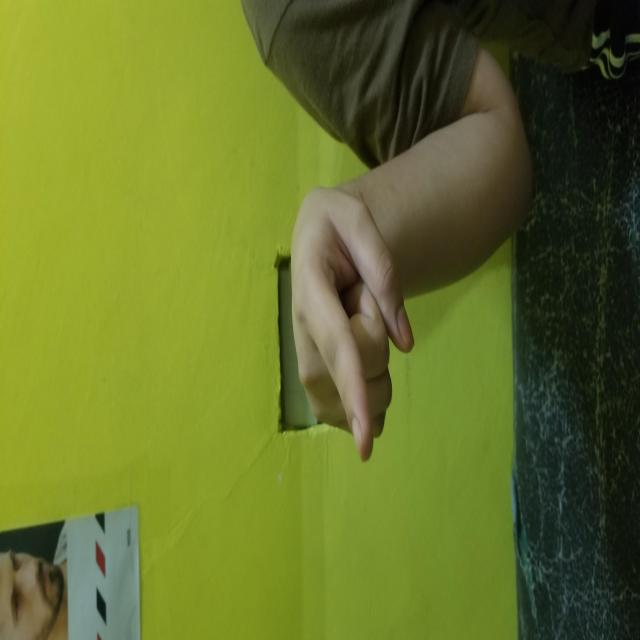Z: (175, 290, 452, 414)
